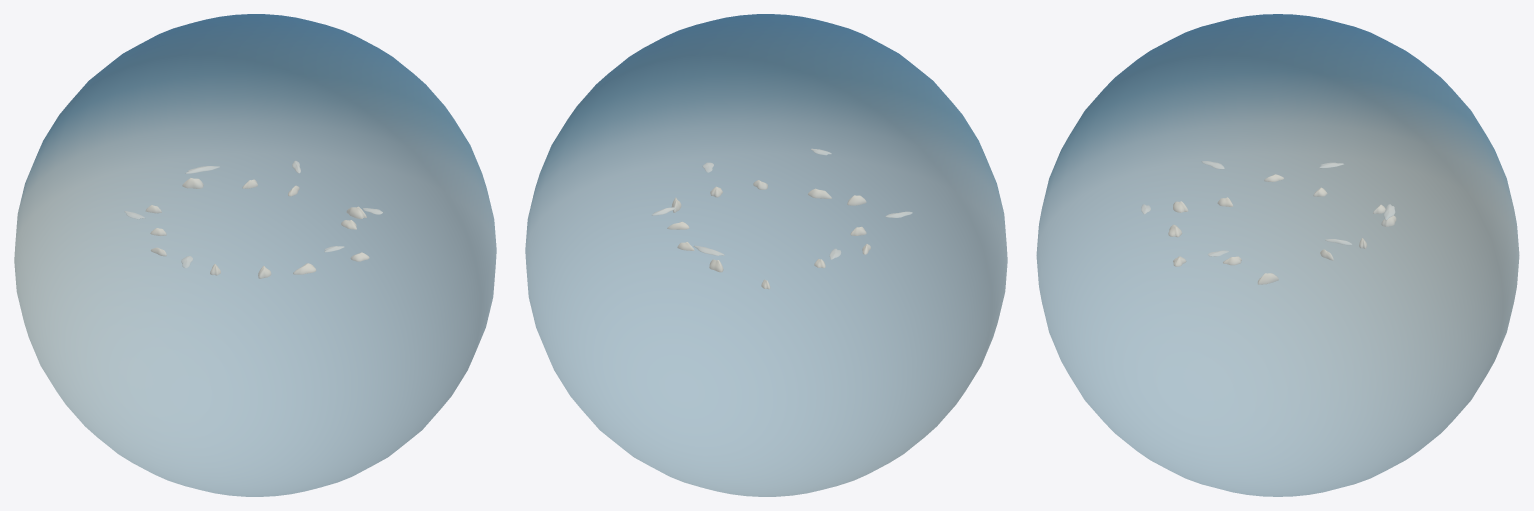
The model's file is eugene-fair-weather-sky-2026-11-26.glb.
The picture shows the model from 3 angles, left to right: view 1: azimuth 30°, elevation 25°; view 2: azimuth 150°, elevation 25°; view 3: azimuth 270°, elevation 25°; orthographic projection.
Visible parts, largest first — view 1: atmosphere, cloud-banks; view 2: atmosphere, cloud-banks; view 3: atmosphere, cloud-banks.
Part boxes in pixels (box(x1,y1,x2,y2)): atmosphere: box(14, 14, 496, 496); cloud-banks: box(124, 160, 383, 278); atmosphere: box(525, 14, 1007, 496); cloud-banks: box(652, 148, 912, 289); atmosphere: box(1036, 14, 1519, 496); cloud-banks: box(1141, 161, 1396, 284).
Size of the model in its own units: 13600 by 13600 by 13600.
